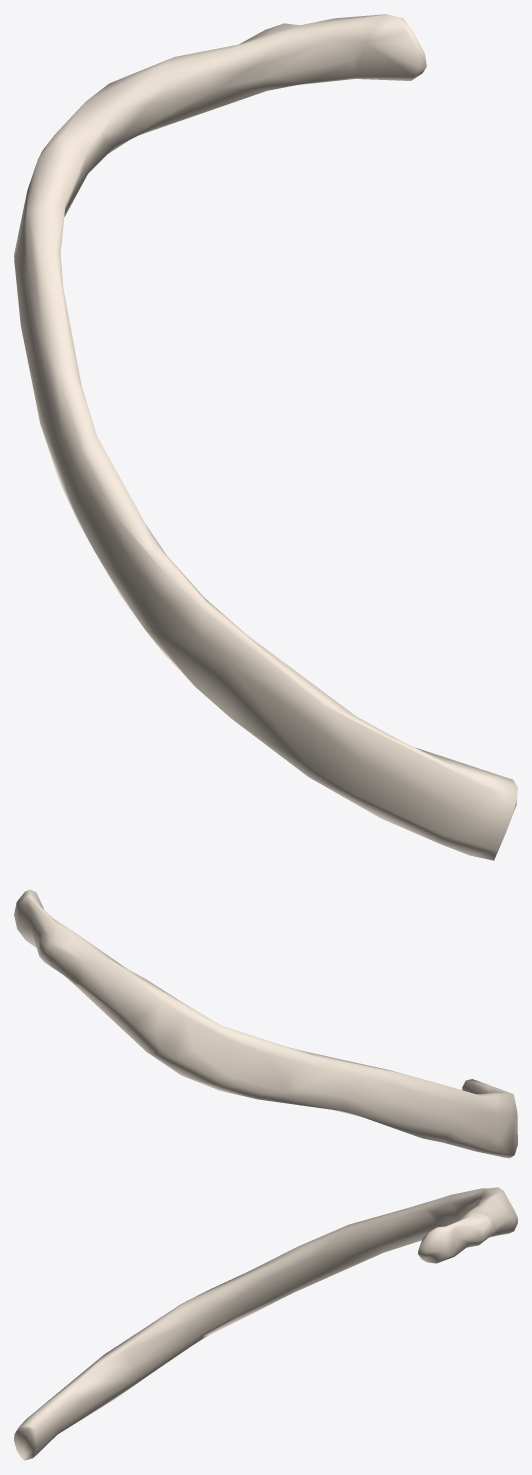
Rendered from right_rib_5.glb.
The picture shows the model from 3 angles, top to bottom: view 1: azimuth 30°, elevation 25°; view 2: azimuth 150°, elevation 25°; view 3: azimuth 270°, elevation 25°; orthographic projection. The views are drawn at different scales.
Visible parts, largest first — view 1: Rib (5th).r; view 2: Rib (5th).r; view 3: Rib (5th).r.
Boxes of the visible parts, <box> form: Rib (5th).r: <box>14,14,517,860</box>; Rib (5th).r: <box>14,889,517,1158</box>; Rib (5th).r: <box>14,1187,517,1460</box>.
Size of the model in its own units: 0.116 by 0.1265 by 0.1884.
